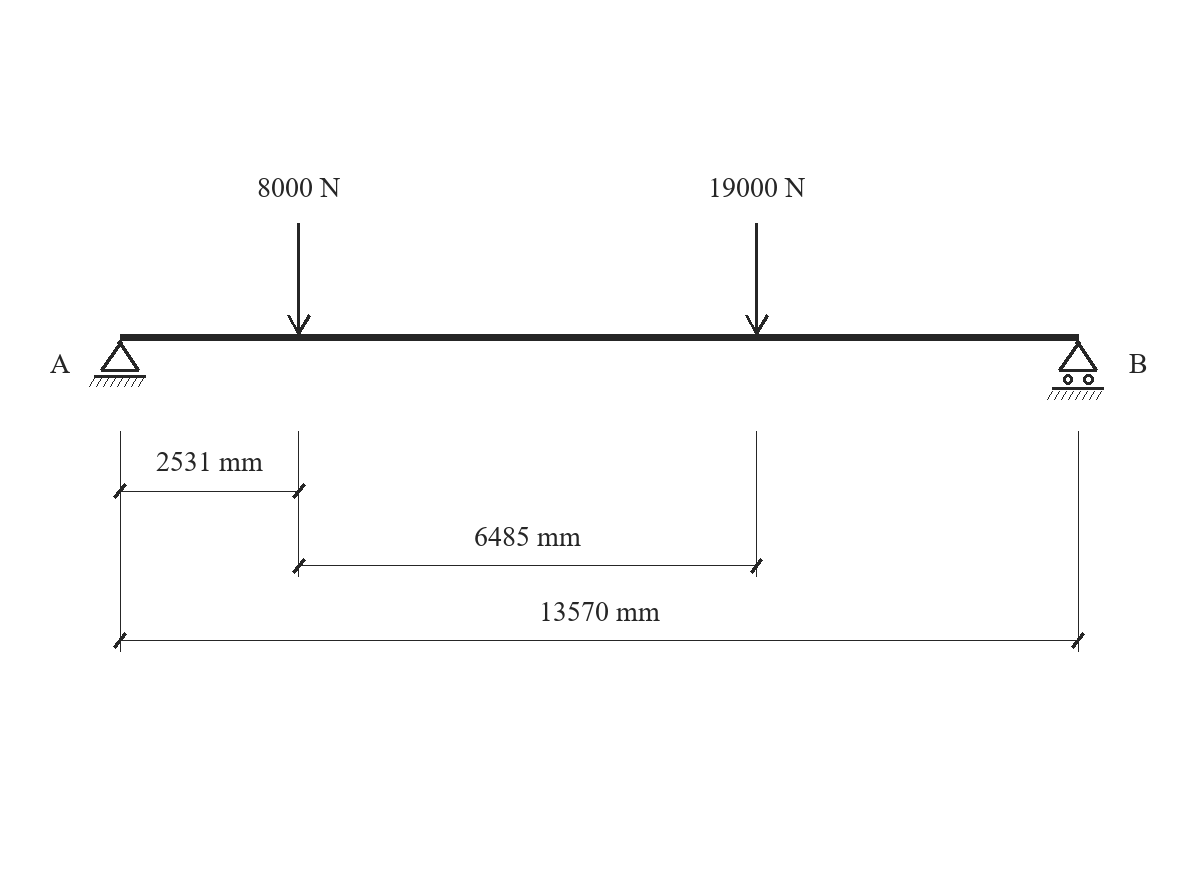pin_support: (89, 340, 146, 387)
point_load: (287, 223, 311, 335), (745, 223, 769, 335)
roller_support: (1047, 340, 1104, 400)
